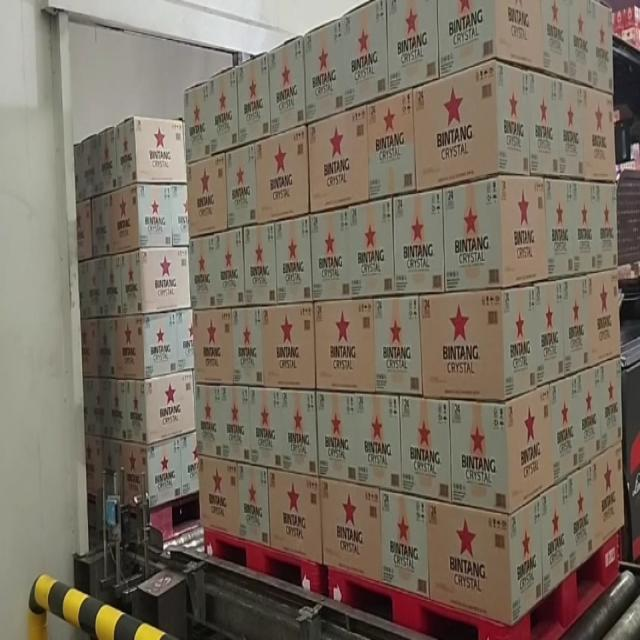pallet: (325, 0, 631, 640), (183, 20, 329, 615), (63, 104, 204, 544)
